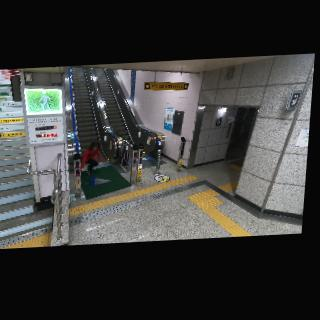anomaly: (78, 140, 106, 177)
